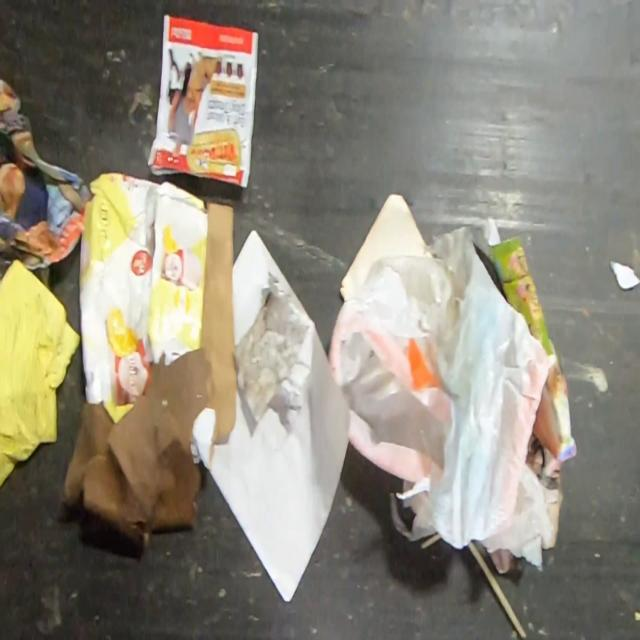cardboard: (78, 170, 238, 472)
soft_plastic: (340, 224, 555, 569), (326, 303, 449, 483)
